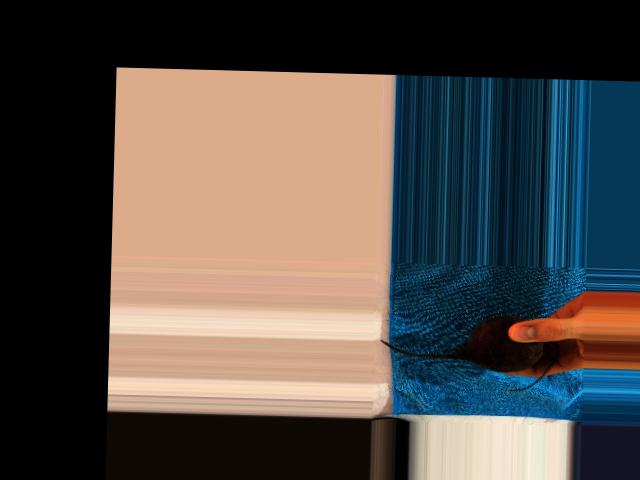beet: (378, 311, 558, 391)
